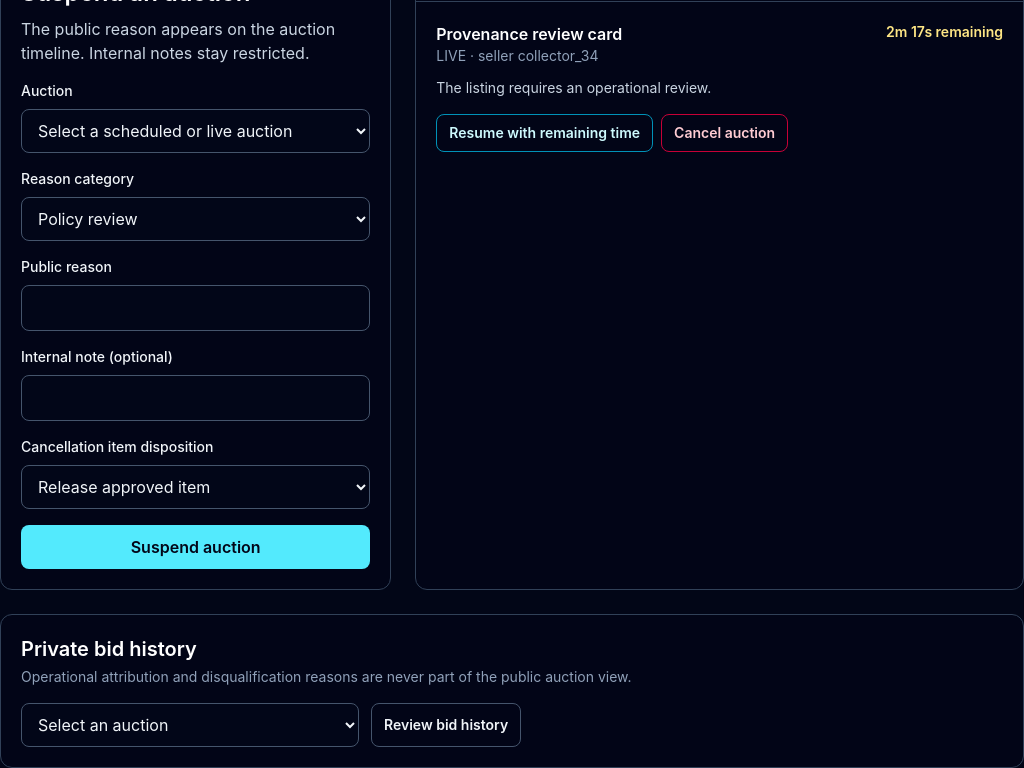
Test: AuctionOperationsWorkspace › keeps attribution and administrator notes in the private operational history
(page scrolled)
Check: the heading "Provenance review card" is shown, box x1=436 y1=22 x2=622 y2=46
Select "Provenance review card — suspended" in the dropdown named "Auction for private bid history": coordinates (190, 725) x1=21 y1=703 x2=359 y2=747
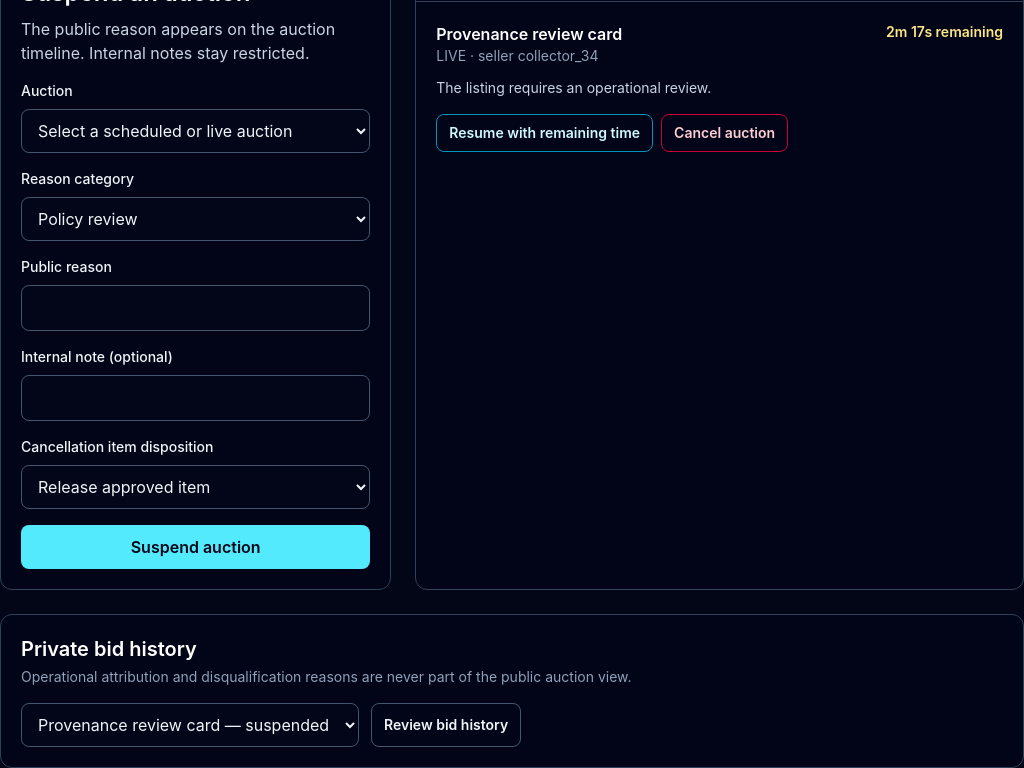
Click the button "Review bid history": coordinates (446, 725) x1=371 y1=703 x2=521 y2=747
(page scrolled)
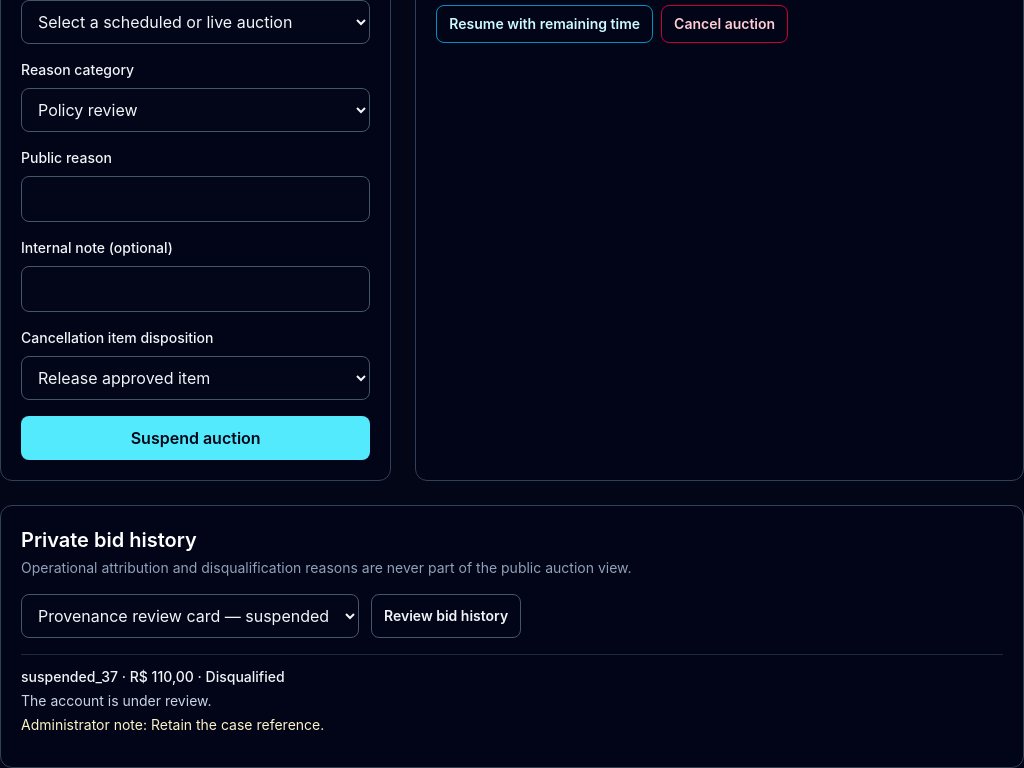
Check: the text "suspended_37 · R$ 110,00 · Disqualified" is shown, box x1=21 y1=668 x2=285 y2=685
Check: the text "The account is under review." is shown, box x1=21 y1=692 x2=212 y2=709
Check: the text "Administrator note: Retain the case reference." is shown, box x1=21 y1=716 x2=324 y2=733
